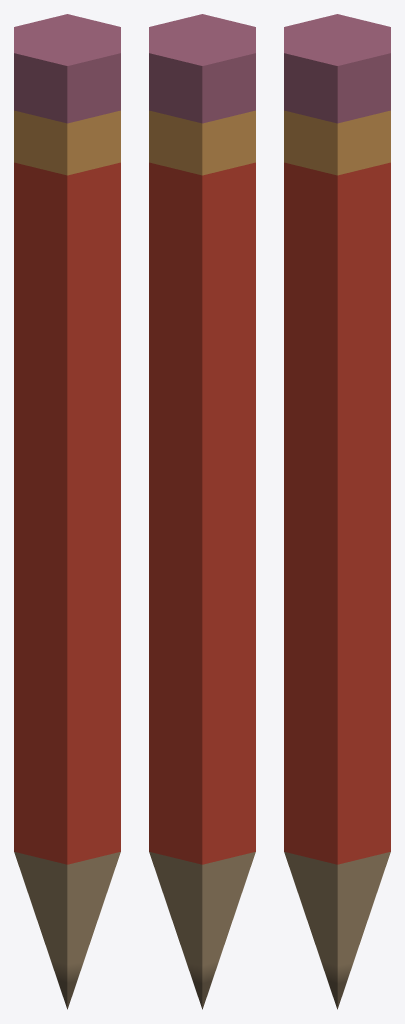
File: SM_Item_Pencil_01.fbx
The picture shows the model from 3 angles, left to right: view 1: azimuth 30°, elevation 25°; view 2: azimuth 210°, elevation 25°; view 3: azimuth 330°, elevation 25°; orthographic projection.
Visible parts, largest first — view 1: SM_Item_Pencil_01; view 2: SM_Item_Pencil_01; view 3: SM_Item_Pencil_01.
Boxes of the visible parts, box(x1,y1,x2,y2) form: SM_Item_Pencil_01: box(14, 14, 120, 1009); SM_Item_Pencil_01: box(149, 14, 255, 1009); SM_Item_Pencil_01: box(284, 14, 390, 1009).
Bounding box in the file's own units: 2.21 × 19.14 × 1.91.
